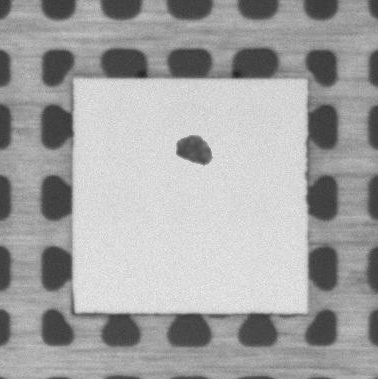DIE_INK: (177, 135, 214, 167)
